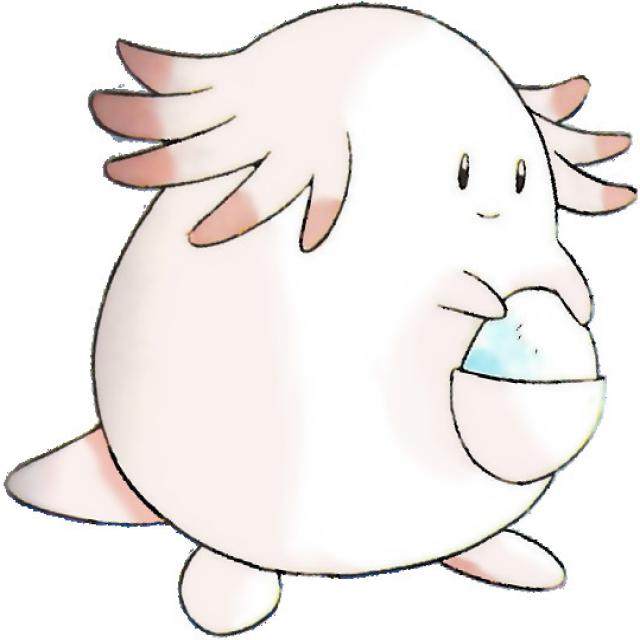Chansey: (87, 12, 622, 616)
